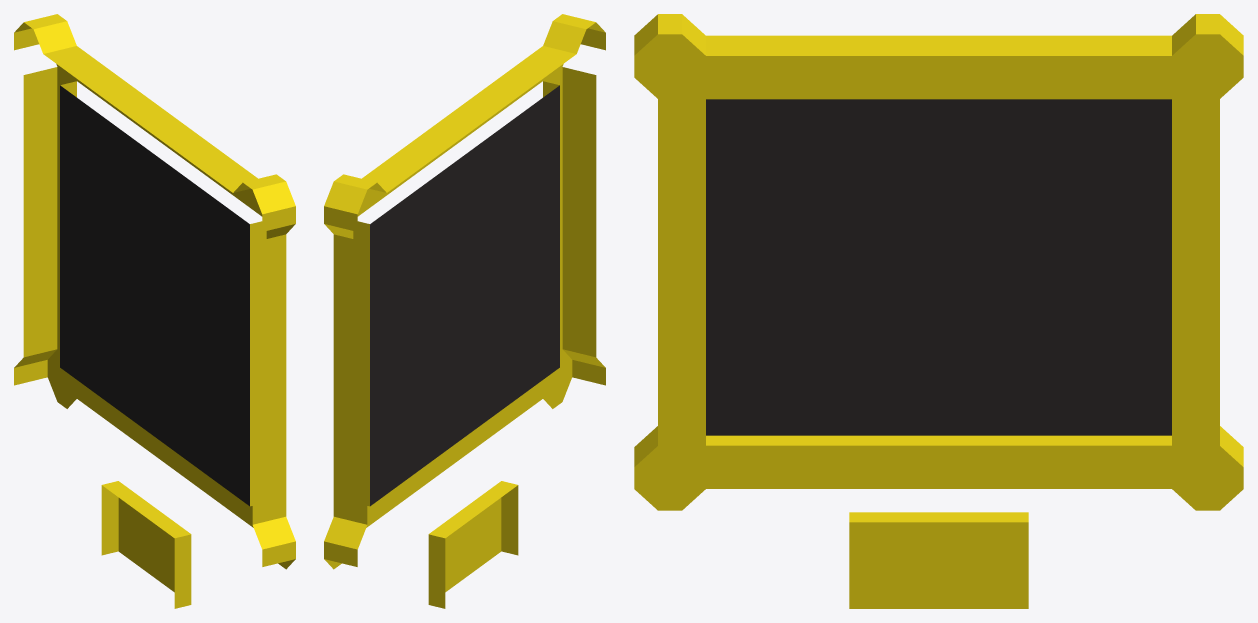
Rendered from obj_portrait_2_0.obj.
3 renders of one model, left to right at view 1: azimuth 30°, elevation 25°; view 2: azimuth 150°, elevation 25°; view 3: azimuth 270°, elevation 25°, orthographic. The views are drawn at different scales.
Bounding box in the file's own units: 0.0625 × 0.8438 × 0.7969.
